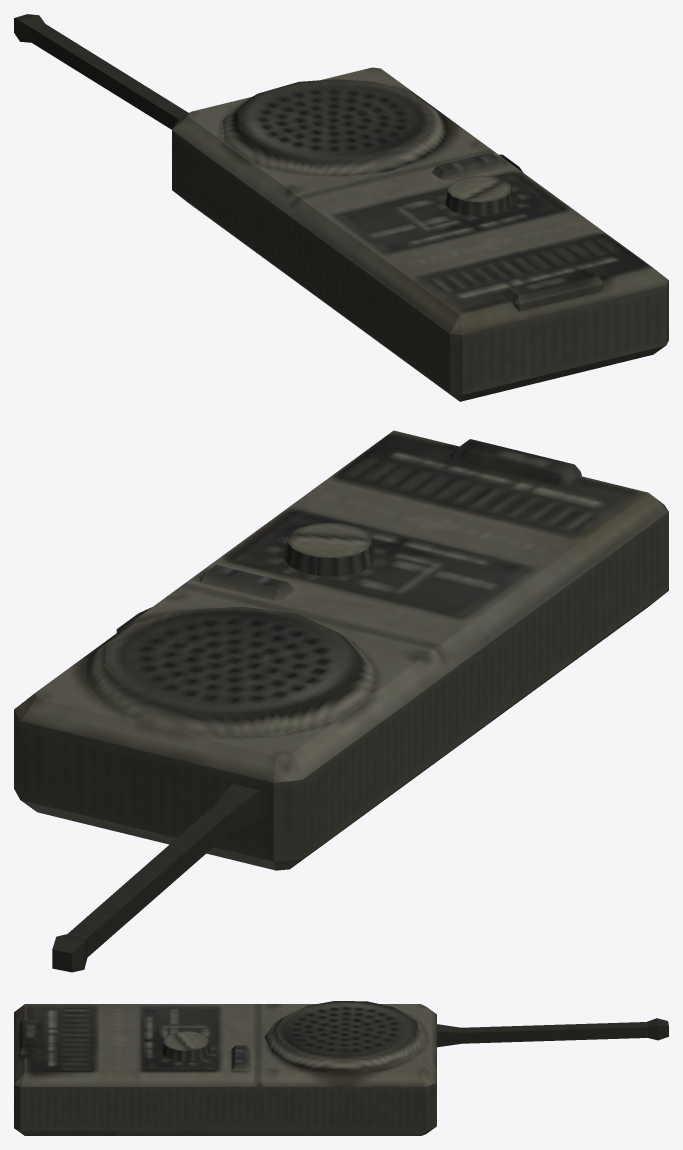
The model's file is walkie_talkie_2.obj.
The picture shows the model from 3 angles, top to bottom: view 1: azimuth 30°, elevation 25°; view 2: azimuth 150°, elevation 25°; view 3: azimuth 270°, elevation 25°; orthographic projection. The views are drawn at different scales.
Visible parts, largest first — view 1: walkie_talkie_2; view 2: walkie_talkie_2; view 3: walkie_talkie_2.
Part boxes in pixels (x1,y1,x2,y2): walkie_talkie_2: [14, 14, 668, 401]; walkie_talkie_2: [14, 430, 668, 972]; walkie_talkie_2: [14, 1001, 668, 1135].
Size of the model in its own units: 0.1139 by 0.046 by 0.3761.
